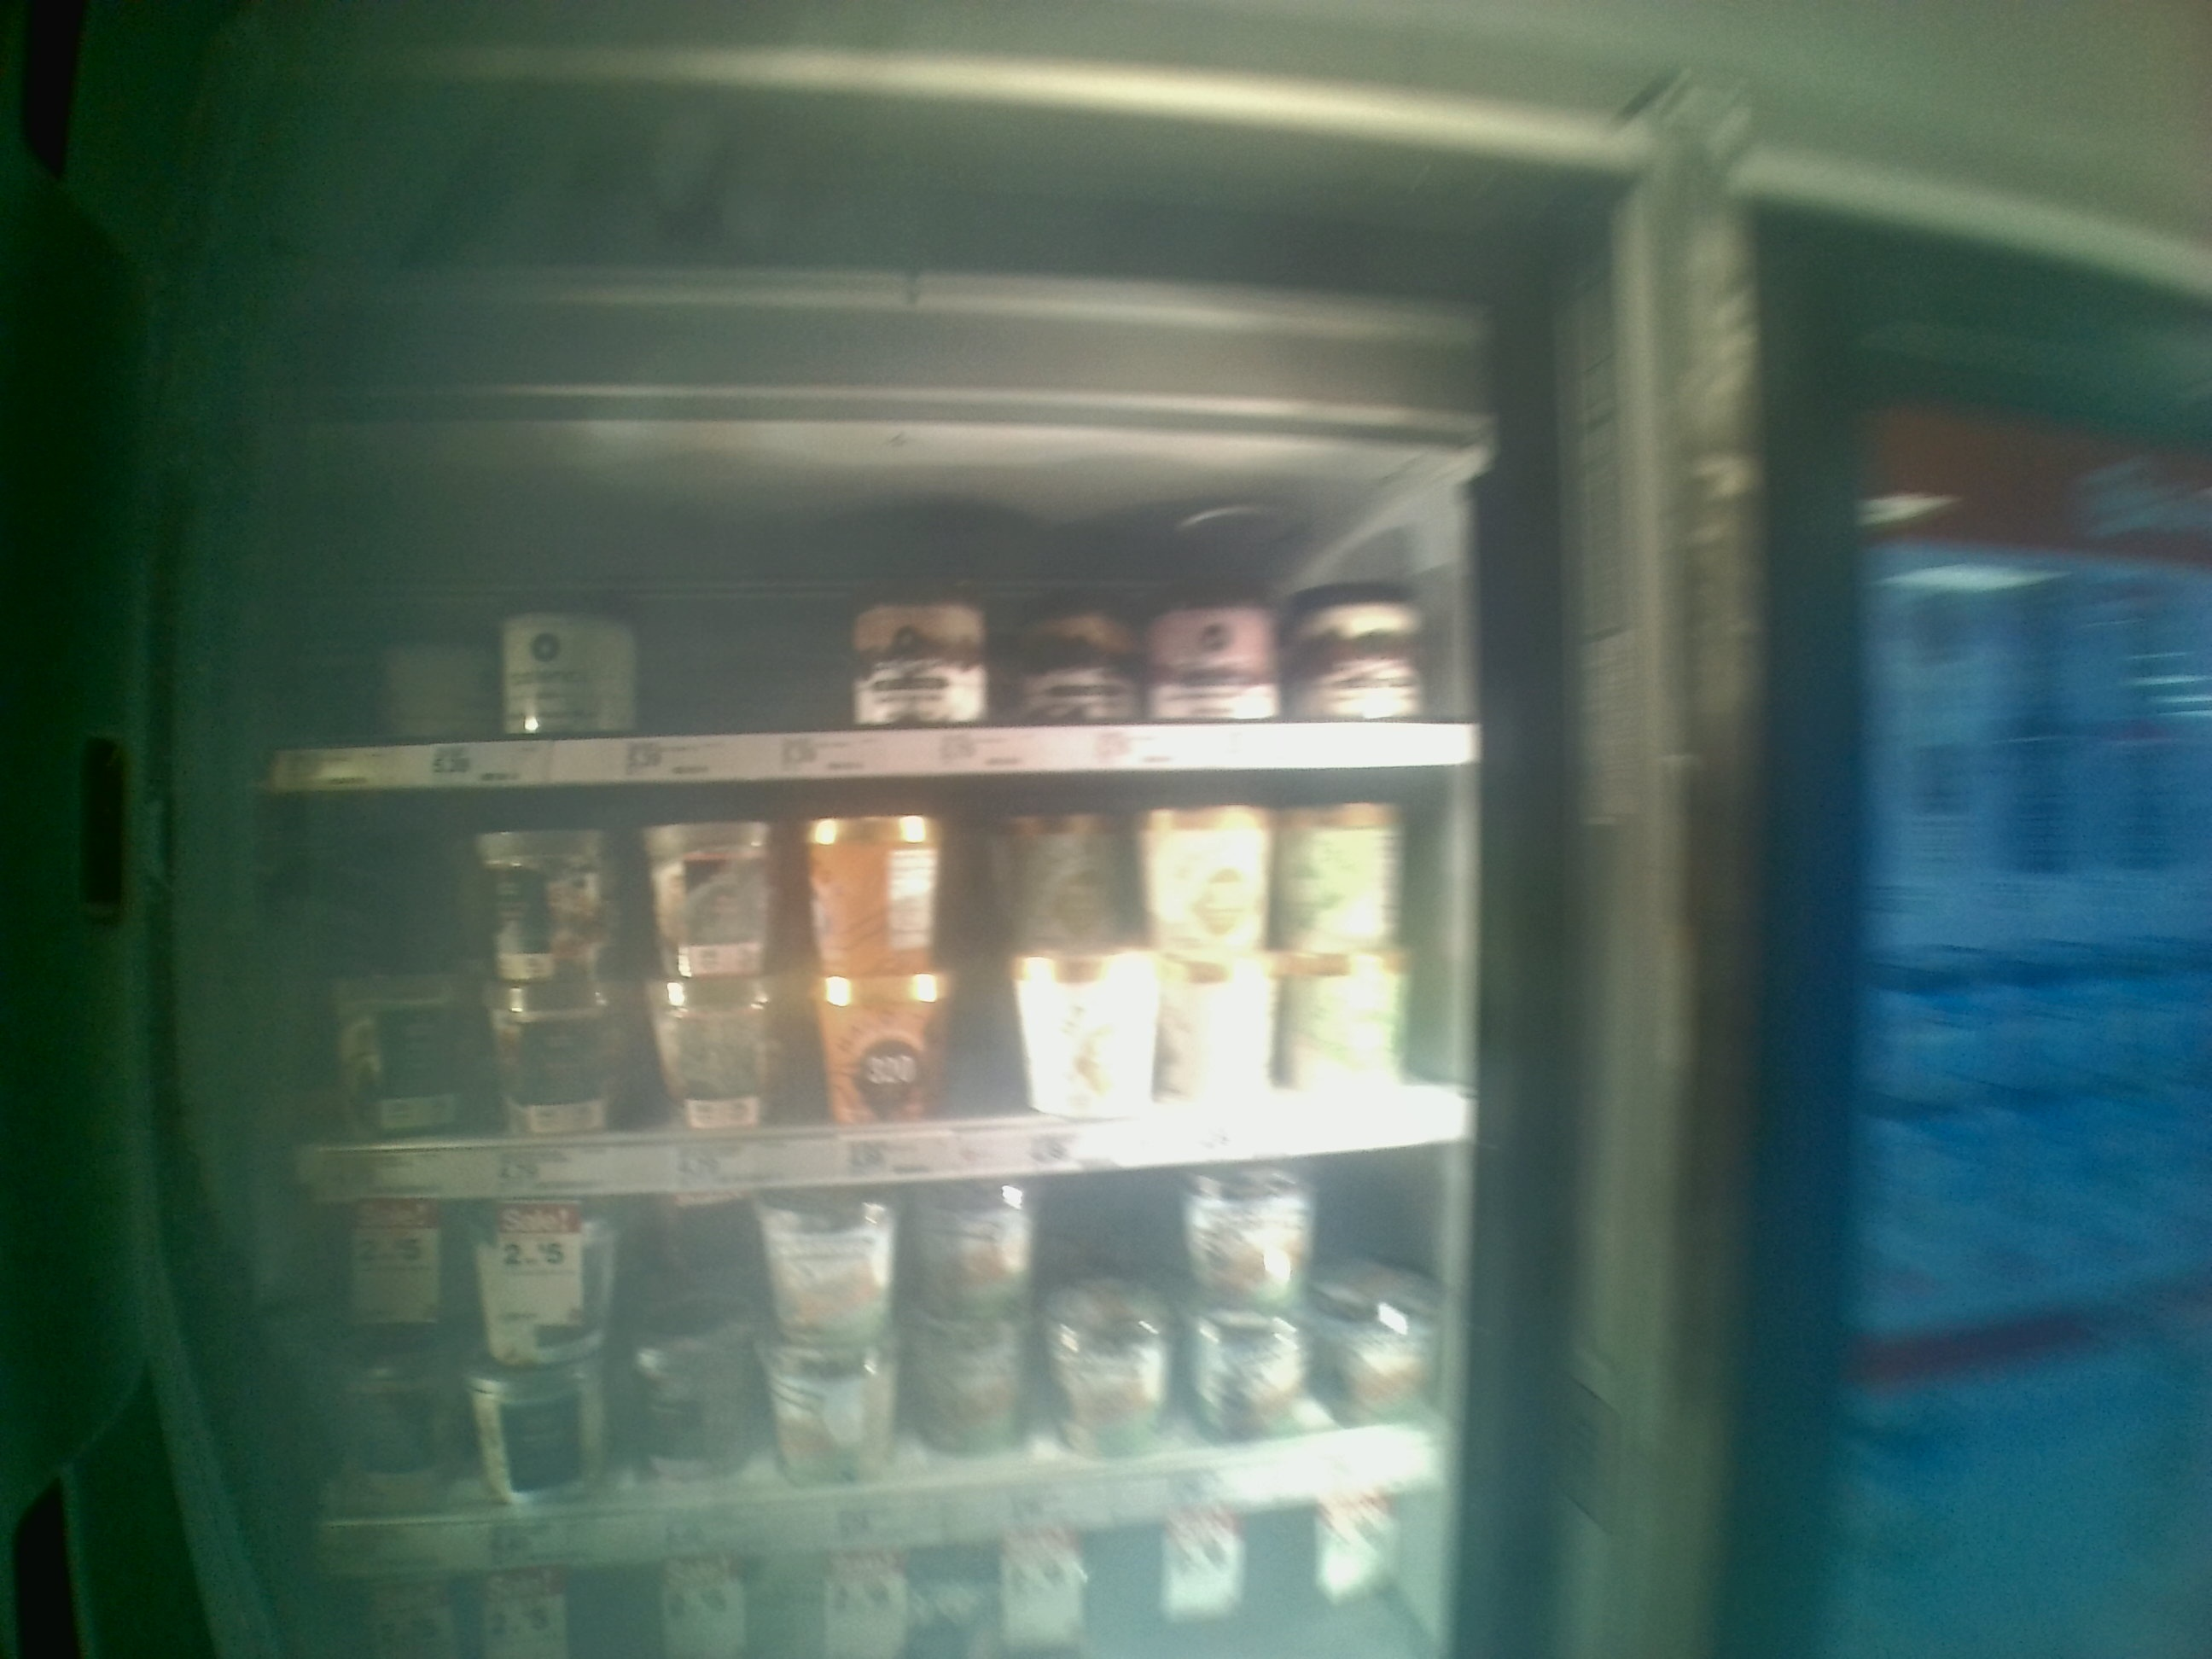shelf: (289, 1138, 1470, 1575), (263, 772, 1491, 1175), (251, 443, 1501, 788)
